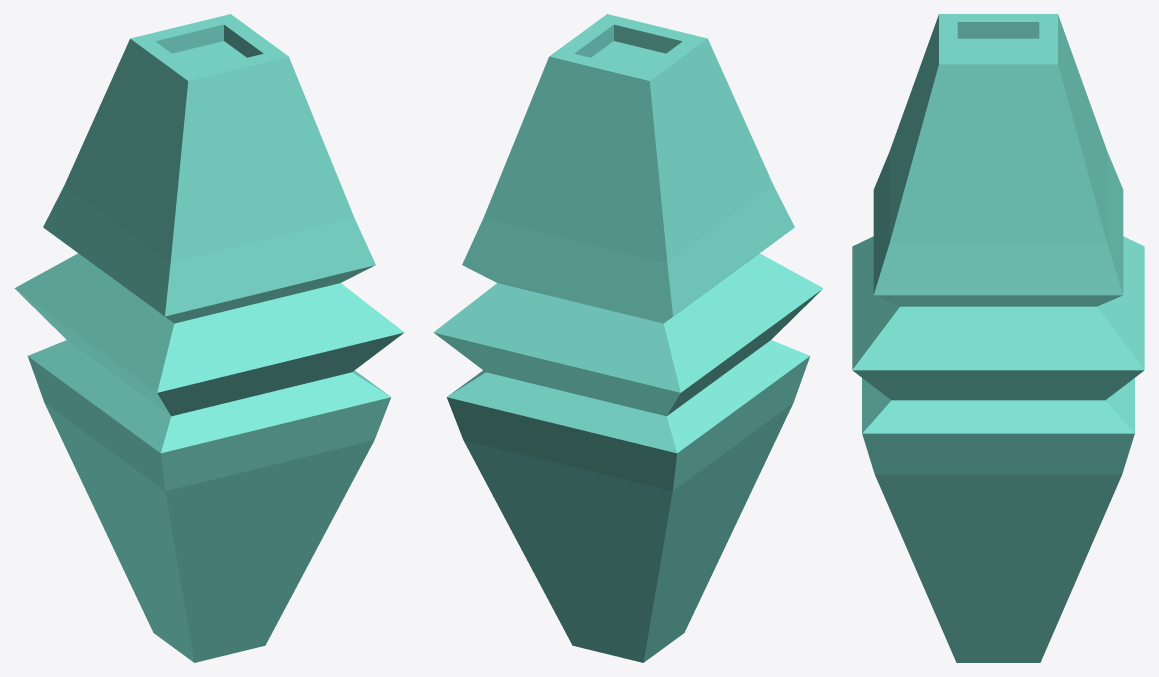
Rendered from BGem.fbx.
3 renders of one model, left to right at view 1: azimuth 30°, elevation 25°; view 2: azimuth 150°, elevation 25°; view 3: azimuth 270°, elevation 25°, orthographic. The views are drawn at different scales.
Parts seen in each view (by area): view 1: Cube; view 2: Cube; view 3: Cube.
Part boxes in pixels (box(x1,y1,x2,y2)): Cube: box(14, 14, 404, 662); Cube: box(433, 14, 823, 662); Cube: box(852, 14, 1144, 662).
Size of the model in its own units: 157 by 359 by 157.
